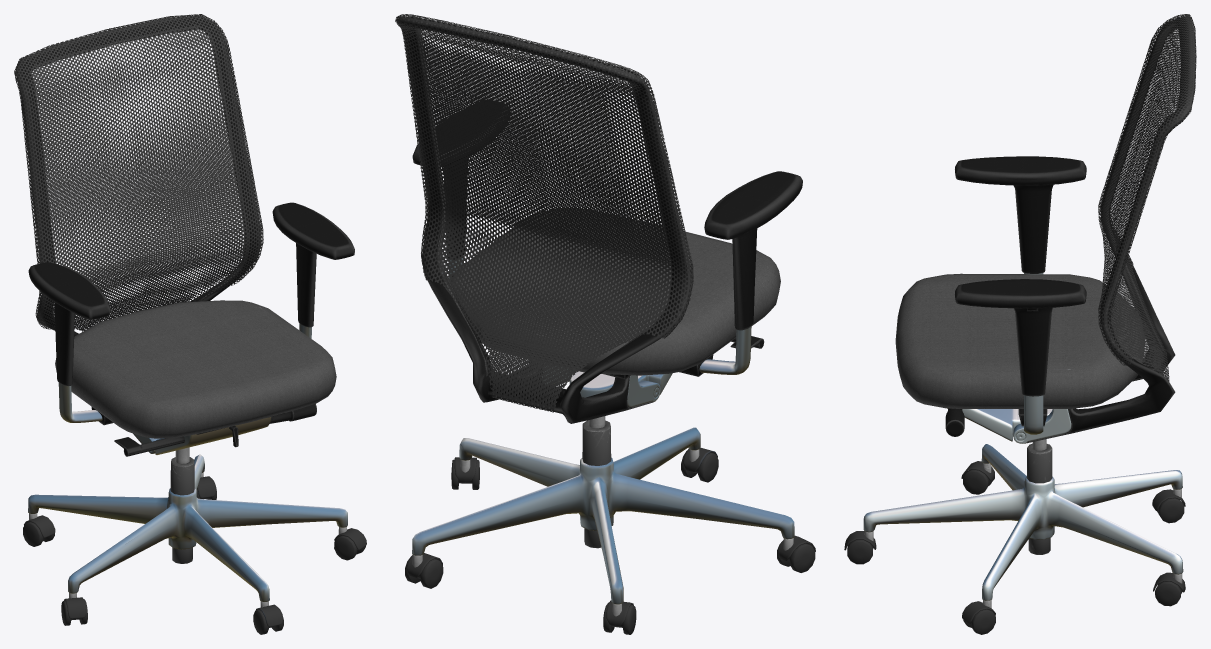
File: Chair.fbx
The picture shows the model from 3 angles, left to right: view 1: azimuth 30°, elevation 25°; view 2: azimuth 150°, elevation 25°; view 3: azimuth 270°, elevation 25°; orthographic projection. The views are drawn at different scales.
Visible parts, largest first — view 1: Chair; view 2: Chair; view 3: Chair.
Boxes of the visible parts, <box> form: Chair: <box>14,14,366,634</box>; Chair: <box>395,14,815,634</box>; Chair: <box>844,14,1196,634</box>.
Bounding box in the file's own units: 67.98 × 105 × 66.01.
Materials: 2 (2 with a texture image).
